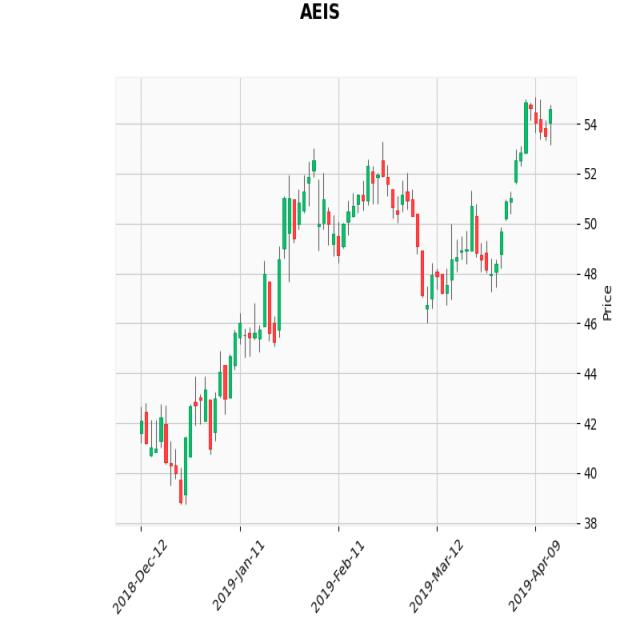Double-Bottom: (417, 200, 515, 316)
Double-Top: (269, 148, 422, 271)
